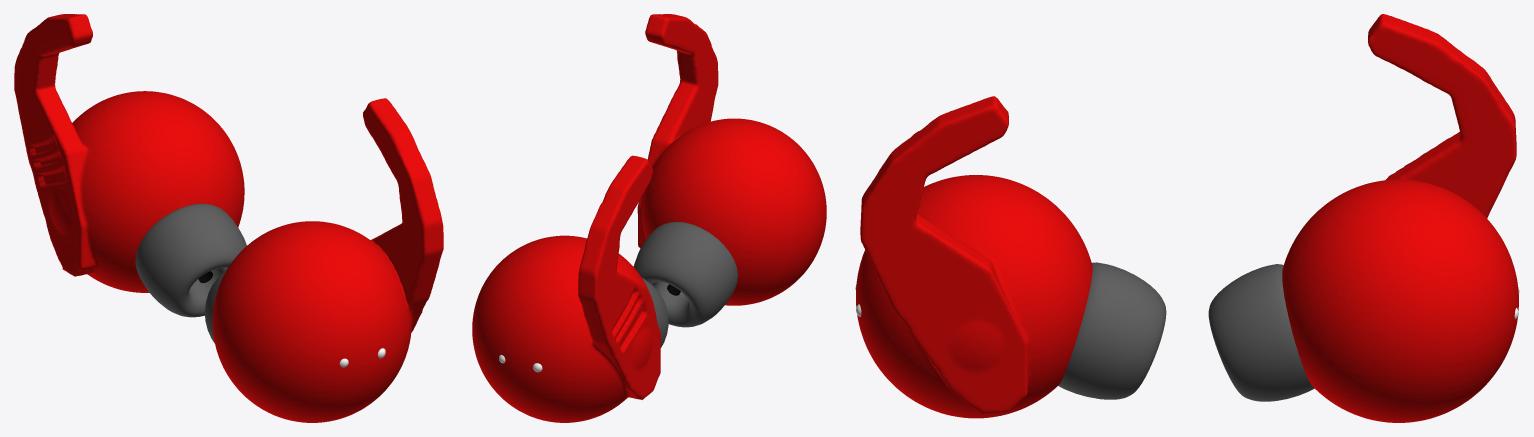
Rendered from ethan-jutila-earbuds-export.gltf.
3 views of the same model, side by side, from view 1: azimuth 30°, elevation 25°; view 2: azimuth 150°, elevation 25°; view 3: azimuth 270°, elevation 25° (orthographic). The views are drawn at different scales.
Parts seen in each view (by area): view 1: Volume_Mesher_remesh, Volume_Mesher_remesh_1, ear_piece_1, ear_piece; view 2: Volume_Mesher_remesh_1, Volume_Mesher_remesh, ear_piece, ear_piece_1; view 3: Volume_Mesher_remesh_1, Volume_Mesher_remesh, ear_piece, ear_piece_1.
Boxes of the visible parts, x1,y1,x2,y2 form: Volume_Mesher_remesh: (212,98,443,422); Volume_Mesher_remesh_1: (14,14,244,292); ear_piece_1: (135,203,246,317); ear_piece: (204,269,226,343); Volume_Mesher_remesh_1: (472,155,660,422); Volume_Mesher_remesh: (637,14,826,305); ear_piece: (633,222,737,327); ear_piece_1: (642,278,668,347); Volume_Mesher_remesh_1: (1282,14,1518,422); Volume_Mesher_remesh: (856,96,1092,418); ear_piece: (1058,262,1166,399); ear_piece_1: (1208,264,1314,401).
Size of the model in its own units: 0.5503 by 0.8475 by 1.46.
